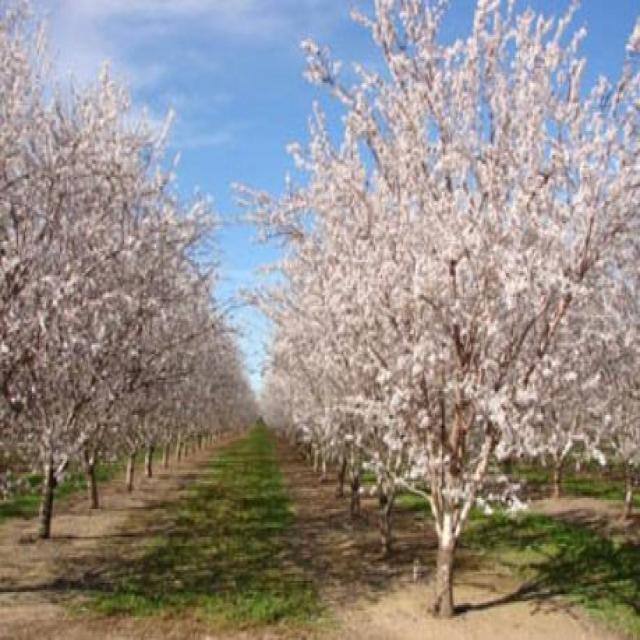row: (5, 419, 416, 605)
